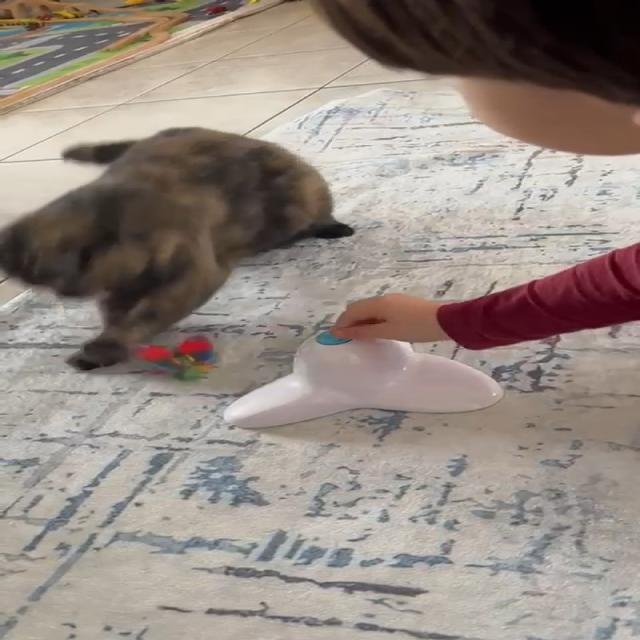authorized: (0, 126, 355, 372)
